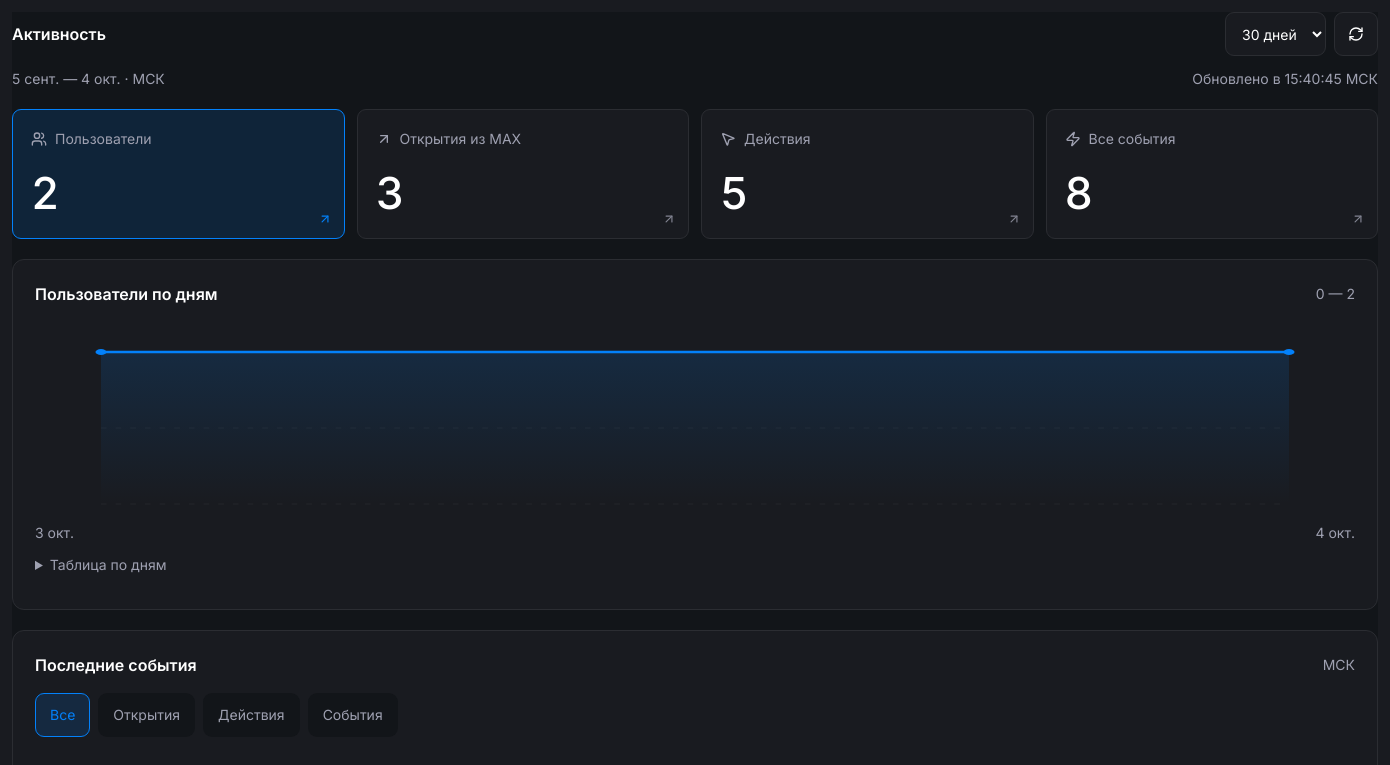
Test case: filters on backend and clears previous category while pending
This screenshot has width=1390, height=765.
Click the button "Действия": (251, 715) x1=203 y1=693 x2=300 y2=737
Wait 30 ms
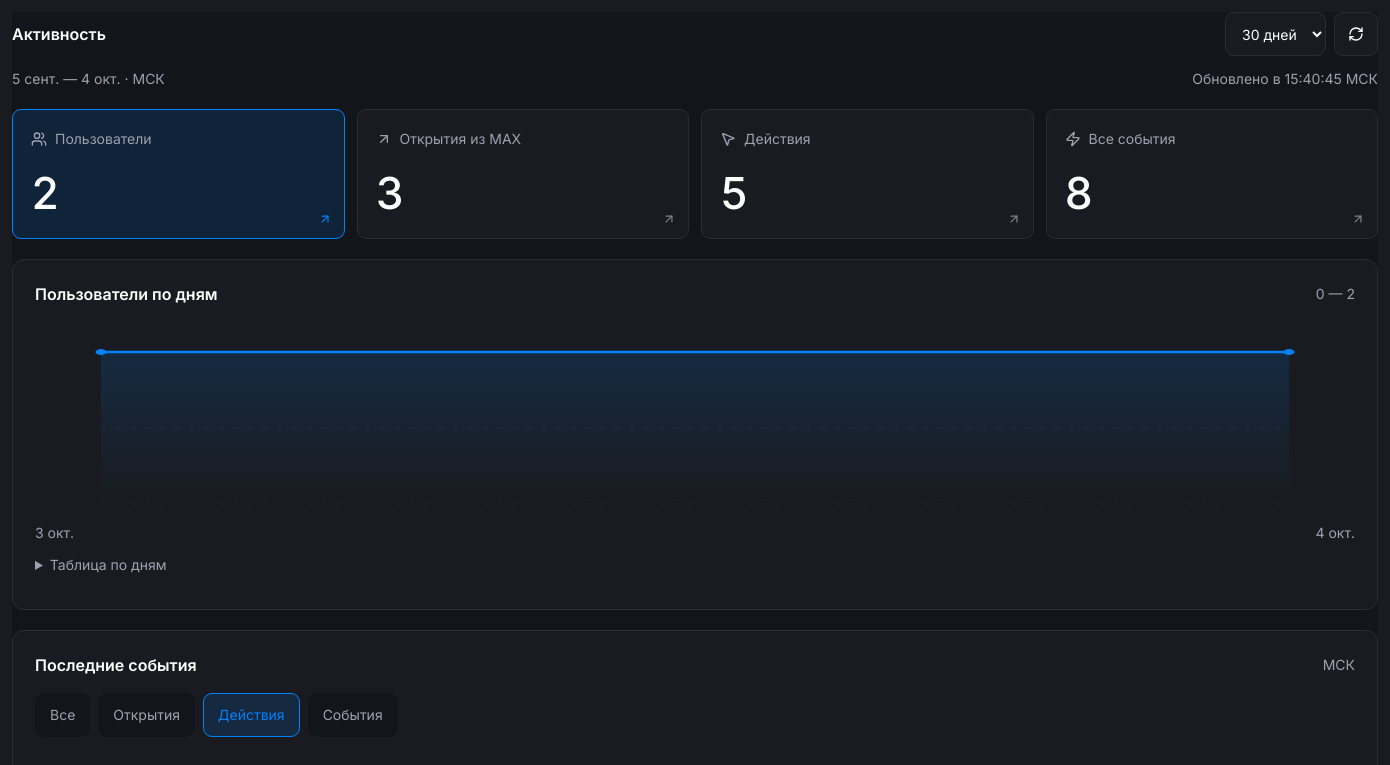
Click the button "Открытия": (147, 715) x1=98 y1=693 x2=195 y2=737
Wait 30 ms
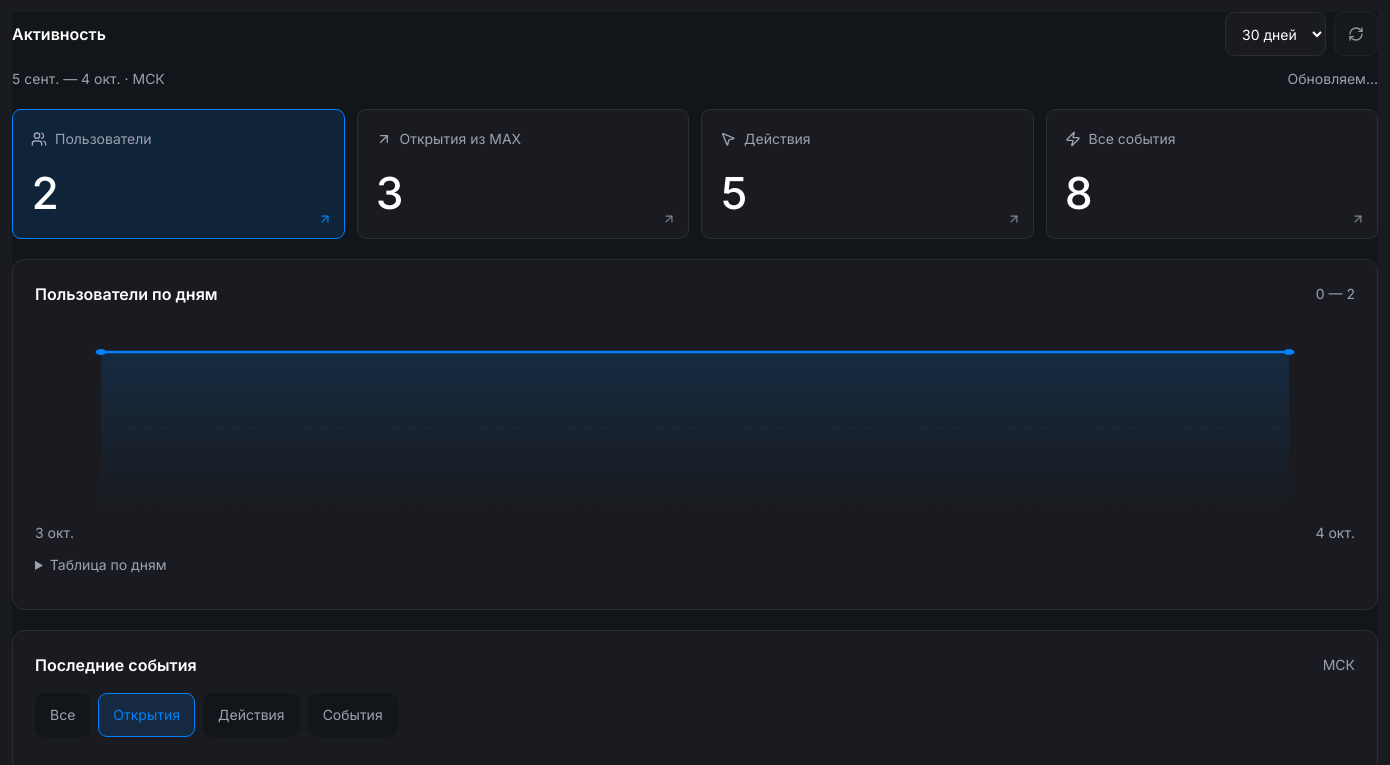
Expected: no list items are shown
